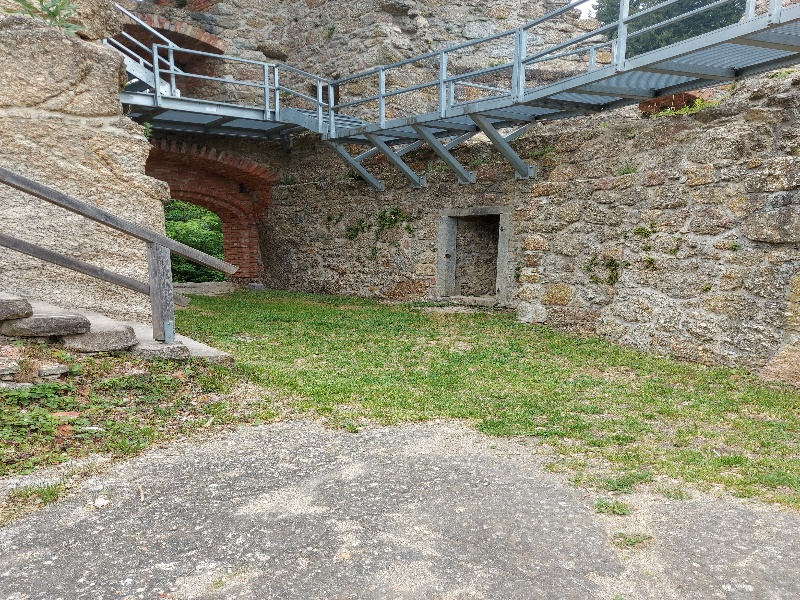door1: (436, 201, 512, 309)
